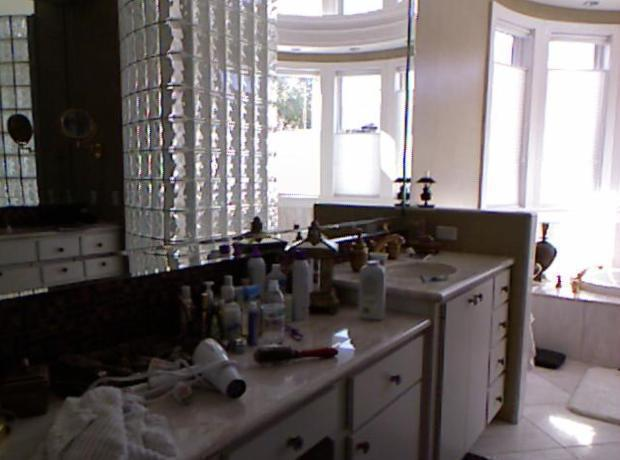Armario: (471, 256, 619, 366), (348, 223, 463, 300)
